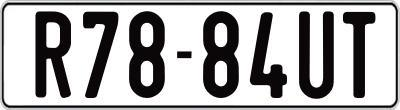4: (247, 10, 290, 102)
7: (83, 10, 119, 96)
8: (128, 9, 170, 102), (202, 8, 238, 97)
R: (34, 8, 70, 98)
T: (340, 12, 378, 98)
U: (299, 9, 336, 103)
